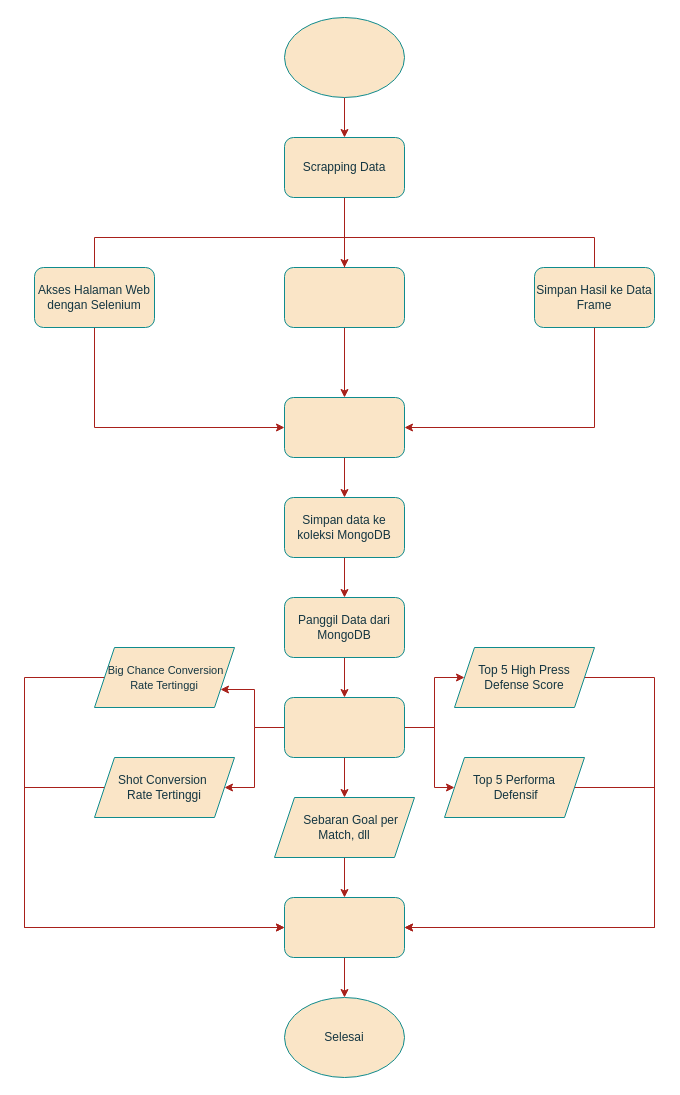
This 680x1095 diagram has some shape labels left out. The shapes that lost their labels are listed below. From the top down, each one's box as (x1, y1, x2, y2) in pixels, then its label:
(284, 16, 404, 98): Mulai
(284, 266, 404, 328): Ekstrak Elemen HTML untuk dapatkan data
(284, 396, 404, 458): Hubungkan ke MongoDB
(284, 696, 404, 758): Melakukan Agregasi Data
(284, 896, 404, 958): Visualisasi Hasil
